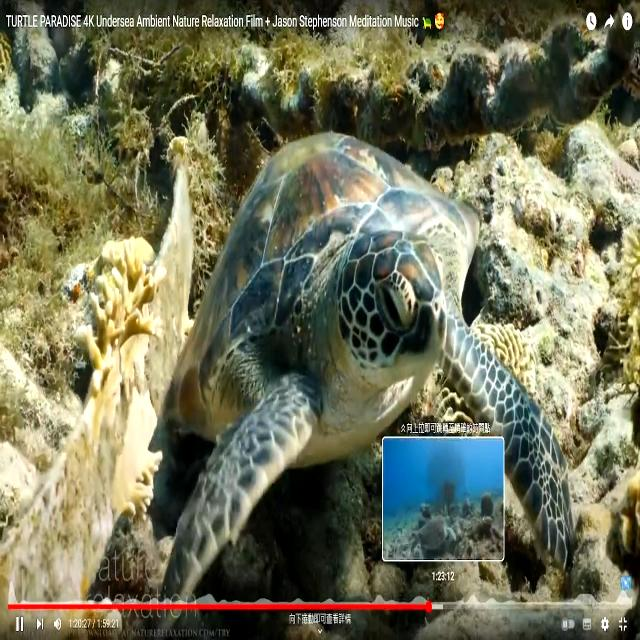Sea turtle: (151, 125, 577, 590)
